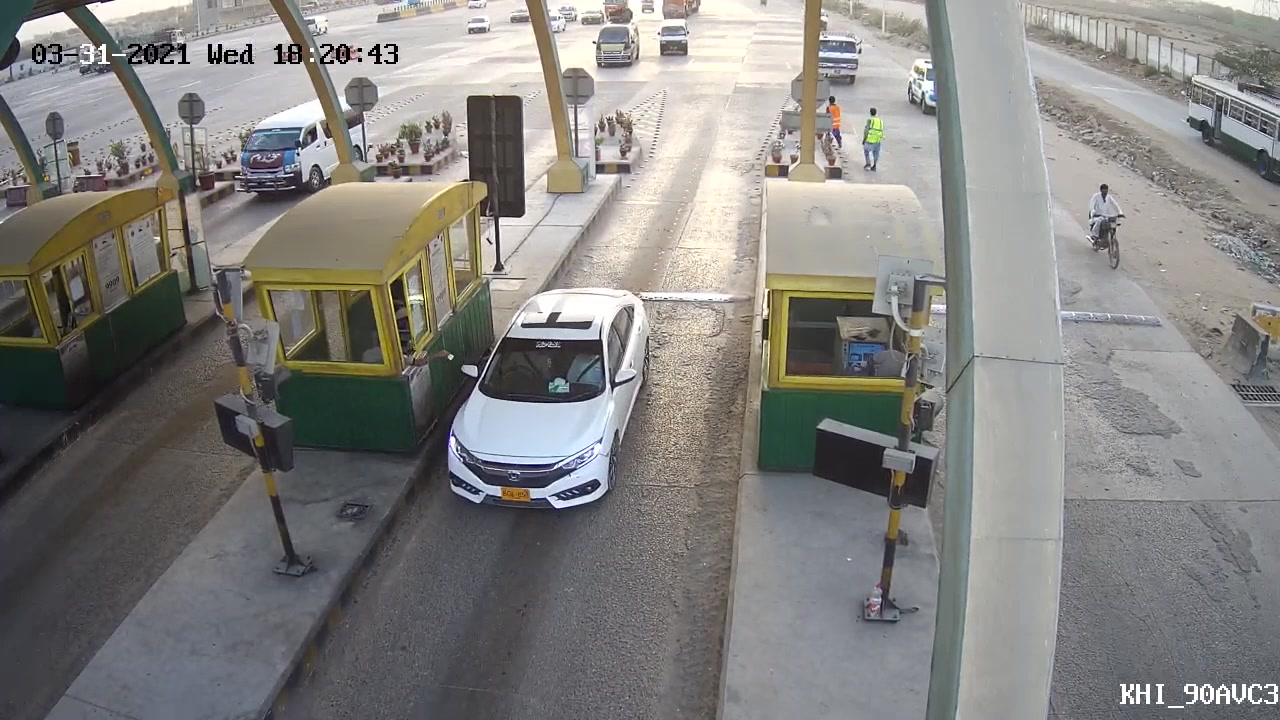F1: (445, 282, 668, 514)
